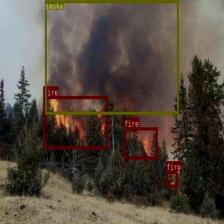fire: (43, 96, 107, 148), (124, 127, 157, 159), (166, 171, 177, 187)
smoke: (45, 0, 178, 114)
